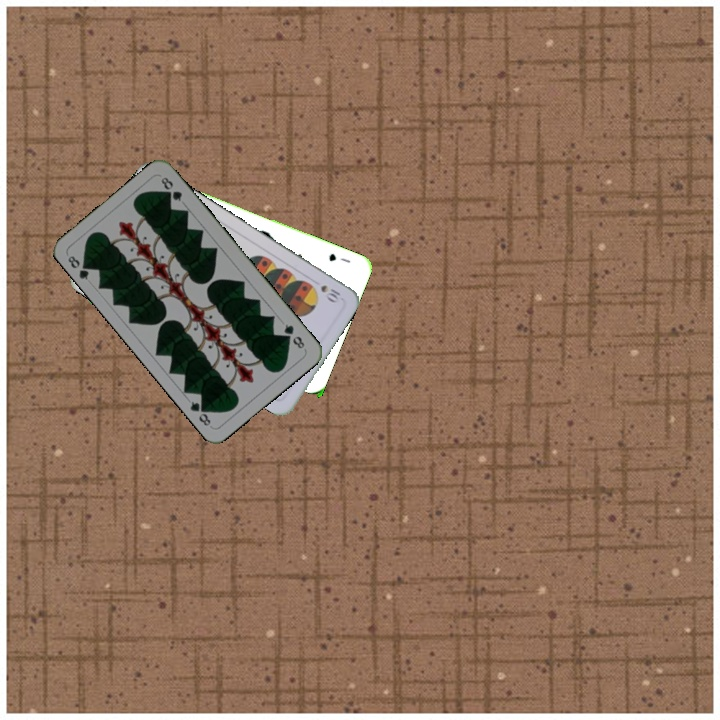G8: (64, 251, 94, 283), (280, 320, 307, 351)
GU: (325, 249, 353, 266)
S10: (316, 281, 343, 304)
